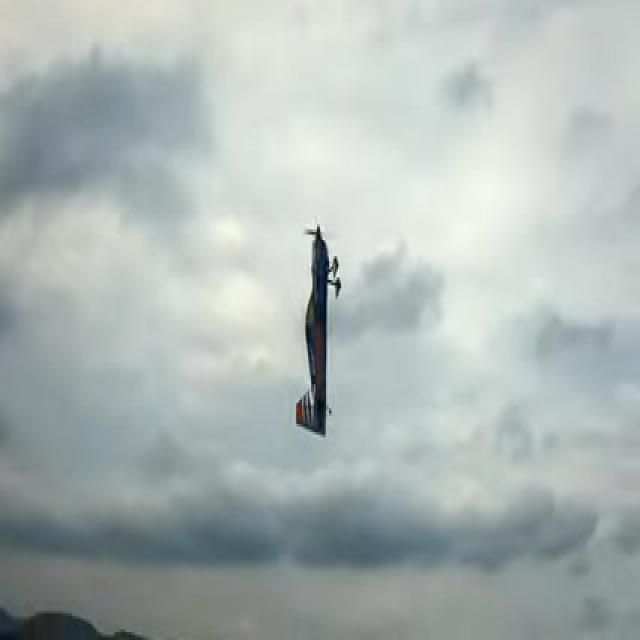iha: (294, 213, 342, 436)
